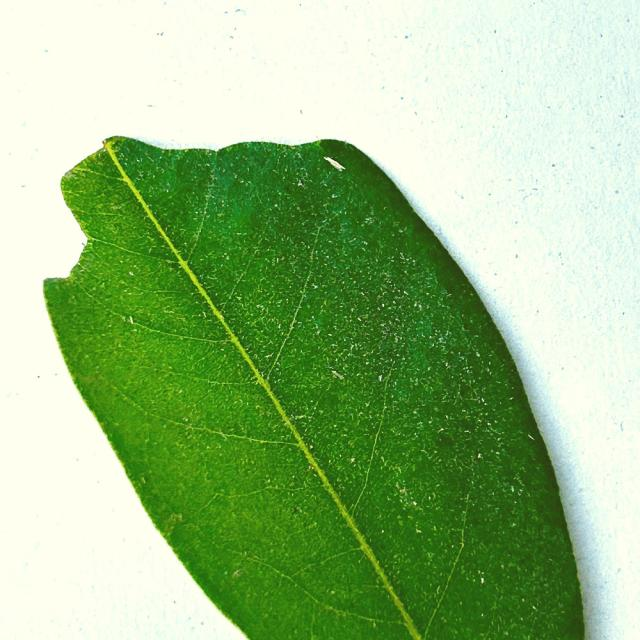Deficiency Leaf: (26, 78, 101, 379), (95, 76, 351, 149)
Lychee: (45, 137, 583, 639)
